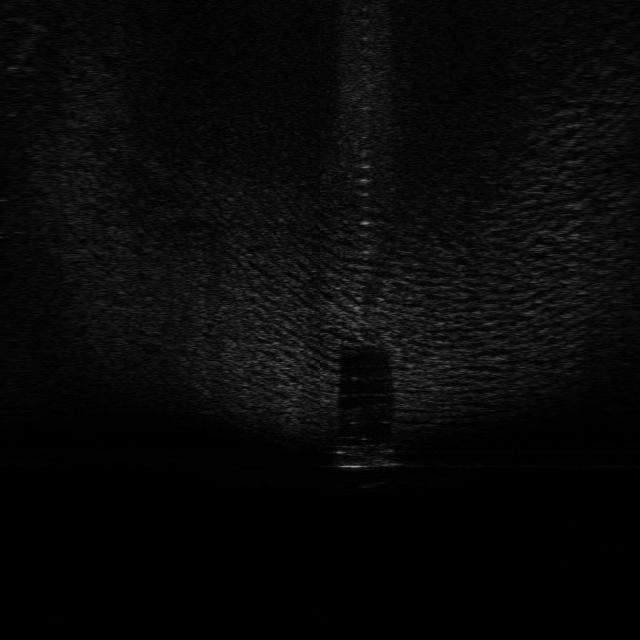cube: (336, 443, 402, 471)
